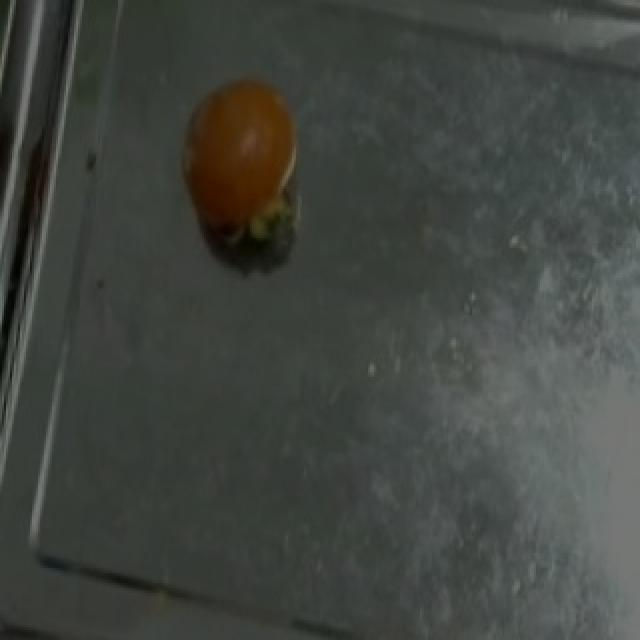Fruit: (170, 64, 316, 256)
